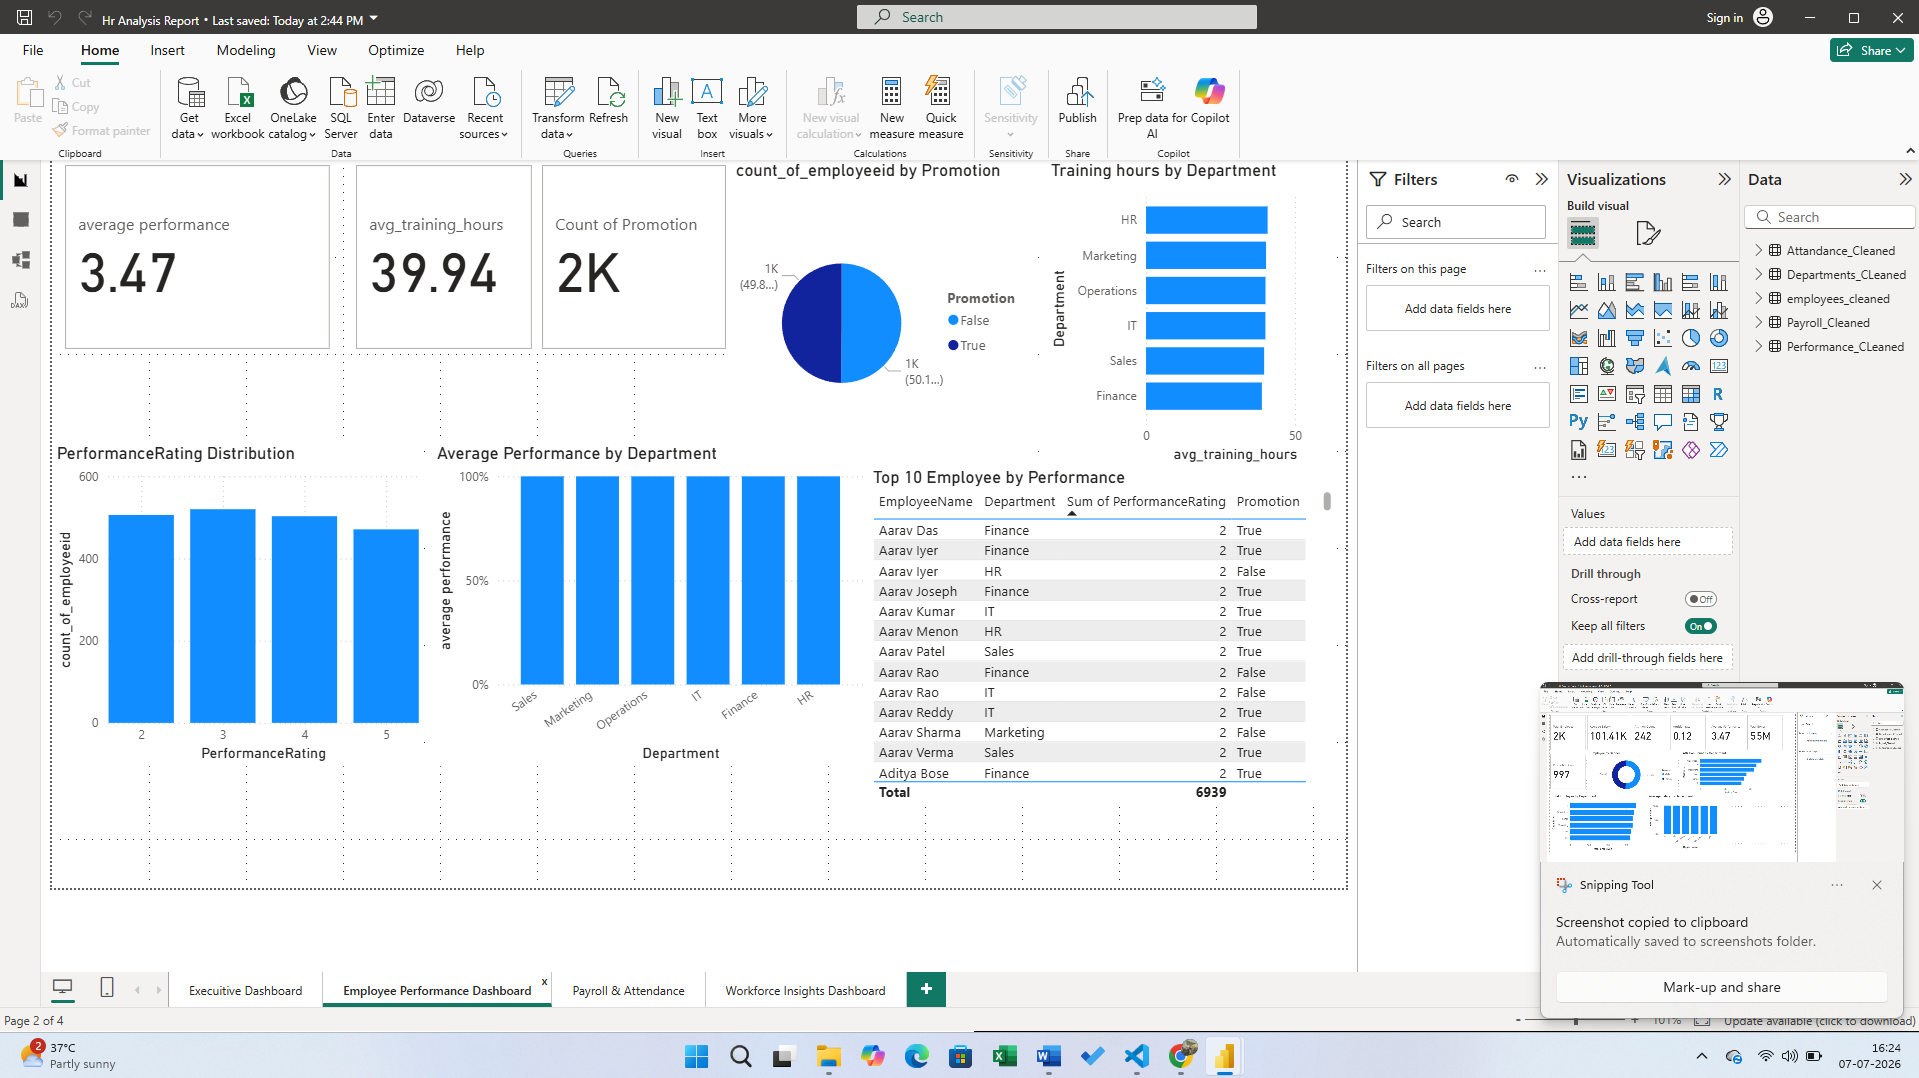

Layout of this report page (visuals, bound fields, positions):
{"tool":"powerbi","page":{"name":"Employee Performance Dashboard","canvas":[1280,720],"ordinal":1},"visuals":[{"type":"cardVisual","fields":{"Data":["Attandance_Cleaned.average performance"]},"box":[8,0,272,192],"z":1},{"type":"cardVisual","fields":{"Data":["Attandance_Cleaned.avg_training_hours"]},"box":[296,0,184,192],"z":3},{"type":"columnChart","title":"PerformanceRating Distribution","fields":{"Category":["Performance_CLeaned.PerformanceRating"],"Y":["Attandance_Cleaned.count_of_employeeid"]},"box":[0,280,368,320],"z":5},{"type":"cardVisual","fields":{"Data":["CountNonNull(Performance_CLeaned.Promotion)"]},"box":[480,0,192,192],"z":6},{"type":"barChart","title":"Training hours by Department","fields":{"Category":["Departments_CLeaned.Department"],"Y":["Attandance_Cleaned.avg_training_hours"]},"box":[984,0,288,304],"z":7},{"type":"hundredPercentStackedColumnChart","title":"Average Performance by Department","fields":{"Category":["Departments_CLeaned.Department"],"Y":["Attandance_Cleaned.average performance"]},"box":[376,280,432,320],"z":8},{"type":"tableEx","title":"Top 10 Employee by Performance","fields":{"Values":["employees_cleaned.EmployeeName","Departments_CLeaned.Department","Sum(Performance_CLeaned.PerformanceRating)","Performance_CLeaned.Promotion"]},"box":[808,304,464,336],"z":9},{"type":"pieChart","fields":{"Category":["Performance_CLeaned.Promotion"],"Y":["Attandance_Cleaned.count_of_employeeid"]},"box":[672,0,304,304],"z":10}]}

Visuals, with their boxes on the page's 1280x720 design canvas (x1, y1, x2, y2). These are canvas units, not pixel positions in the 1919x1078 screenshot, which may show the page scaled, cropped or inside an application window:
cardVisual - Attandance_Cleaned.average performance: (x1=8, y1=0, x2=280, y2=192)
cardVisual - Attandance_Cleaned.avg_training_hours: (x1=296, y1=0, x2=480, y2=192)
"PerformanceRating Distribution" columnChart: (x1=0, y1=280, x2=368, y2=600)
cardVisual - CountNonNull(Performance_CLeaned.Promotion): (x1=480, y1=0, x2=672, y2=192)
"Training hours by Department" barChart: (x1=984, y1=0, x2=1272, y2=304)
"Average Performance by Department" hundredPercentStackedColumnChart: (x1=376, y1=280, x2=808, y2=600)
"Top 10 Employee by Performance" tableEx: (x1=808, y1=304, x2=1272, y2=640)
pieChart - Performance_CLeaned.Promotion x Attandance_Cleaned.count_of_employeeid: (x1=672, y1=0, x2=976, y2=304)
